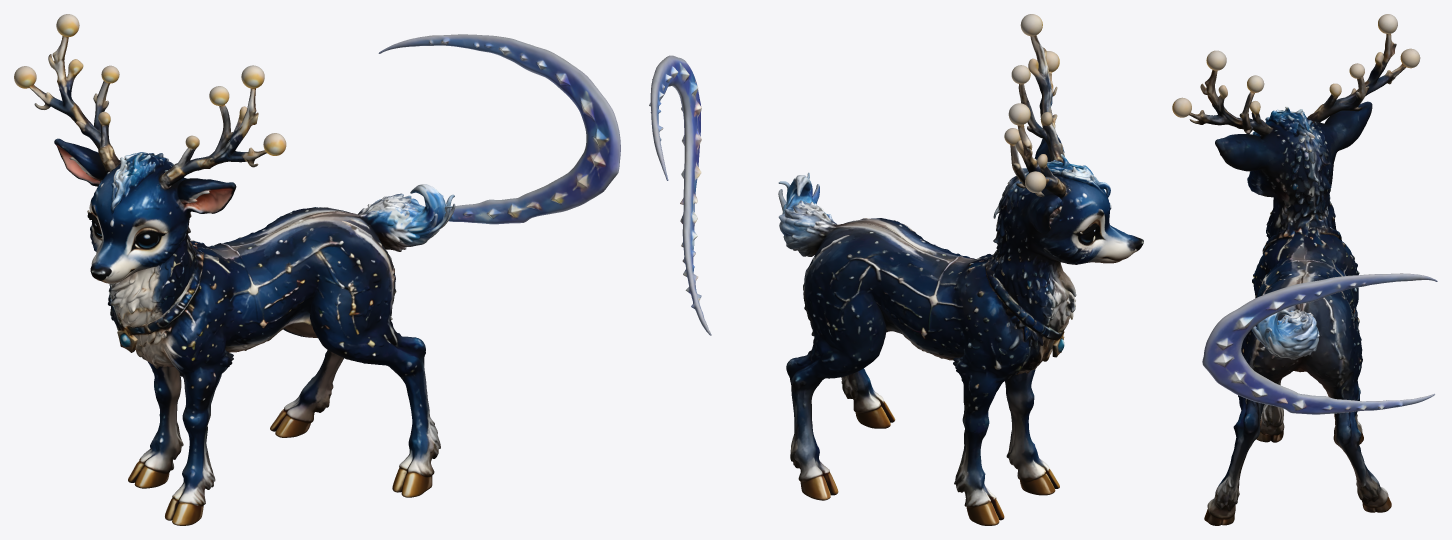
Rendered from stage_ii.glb.
The picture shows the model from 3 angles, left to right: view 1: azimuth 30°, elevation 25°; view 2: azimuth 150°, elevation 25°; view 3: azimuth 270°, elevation 25°; orthographic projection. The views are drawn at different scales.
Visible parts, largest first — view 1: tripo_node_b2646b1b-3ca1-4e25-a7c5-0f5d010045bb; view 2: tripo_node_b2646b1b-3ca1-4e25-a7c5-0f5d010045bb; view 3: tripo_node_b2646b1b-3ca1-4e25-a7c5-0f5d010045bb.
Part boxes in pixels (left/top/right/bottom): tripo_node_b2646b1b-3ca1-4e25-a7c5-0f5d010045bb: left=14, top=14, right=620, bottom=525; tripo_node_b2646b1b-3ca1-4e25-a7c5-0f5d010045bb: left=649, top=14, right=1143, bottom=525; tripo_node_b2646b1b-3ca1-4e25-a7c5-0f5d010045bb: left=1172, top=14, right=1437, bottom=525.
Size of the model in its own units: 1 by 0.8804 by 0.5267.
1 material, 1 textured.
